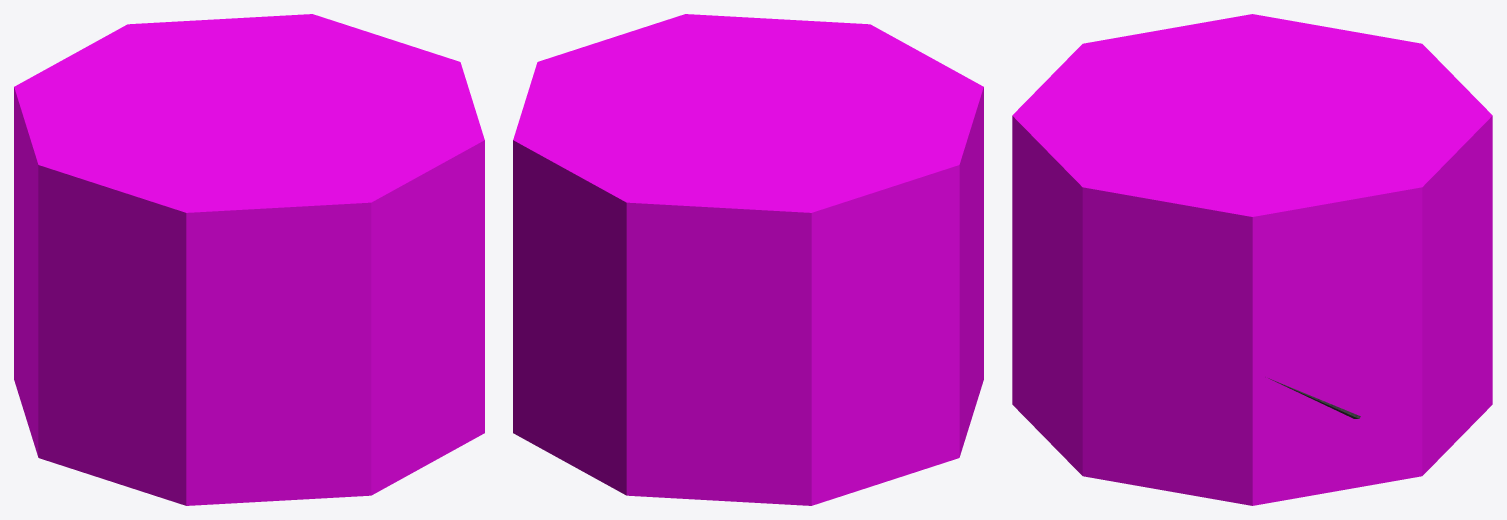
File: rock_large_dark_a.dae
3 views of the same model, side by side, from view 1: azimuth 30°, elevation 25°; view 2: azimuth 150°, elevation 25°; view 3: azimuth 270°, elevation 25° (orthographic).
Parts seen in each view (by area): view 1: Colmesh_rock-1; view 2: Colmesh_rock-1; view 3: Colmesh_rock-1.
Part boxes in pixels (bbox=[...]): Colmesh_rock-1: bbox=[14, 14, 484, 505]; Colmesh_rock-1: bbox=[513, 14, 983, 505]; Colmesh_rock-1: bbox=[1012, 14, 1492, 505].
Bounding box in the file's own units: 3.15 × 3.15 × 2.09.
2 materials, 1 textured.
